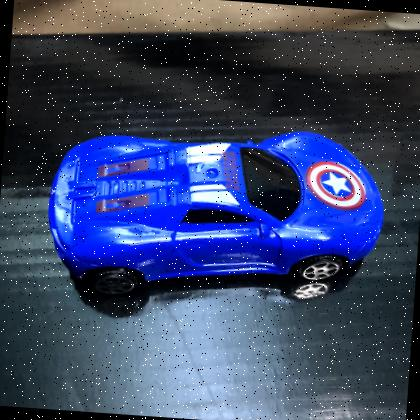Car: (47, 132, 384, 296)
